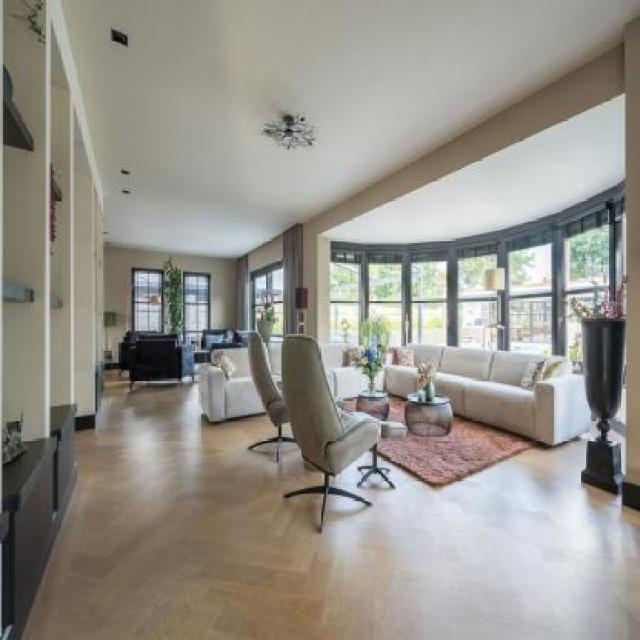floor: (25, 370, 638, 640)
